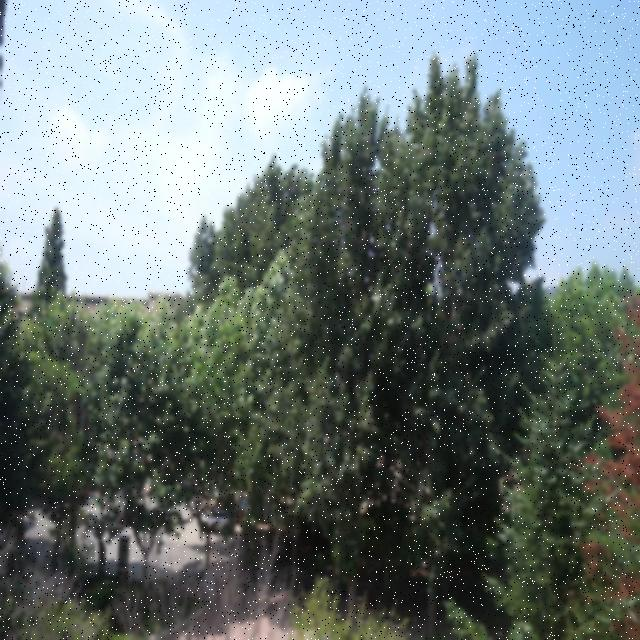UAV: (371, 295, 382, 303)
